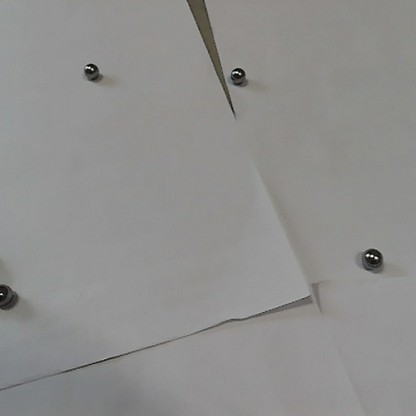ironball: (360, 245, 384, 273), (0, 278, 19, 311), (81, 60, 100, 81), (227, 65, 246, 86)
